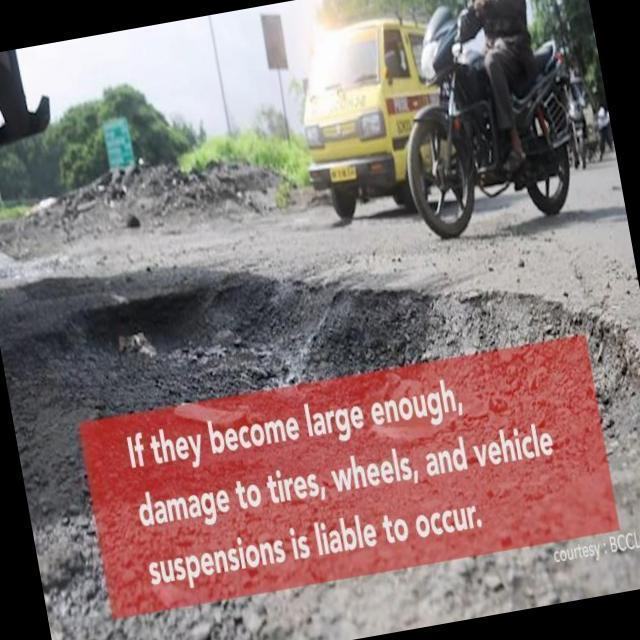Pothole: (25, 276, 623, 597)
